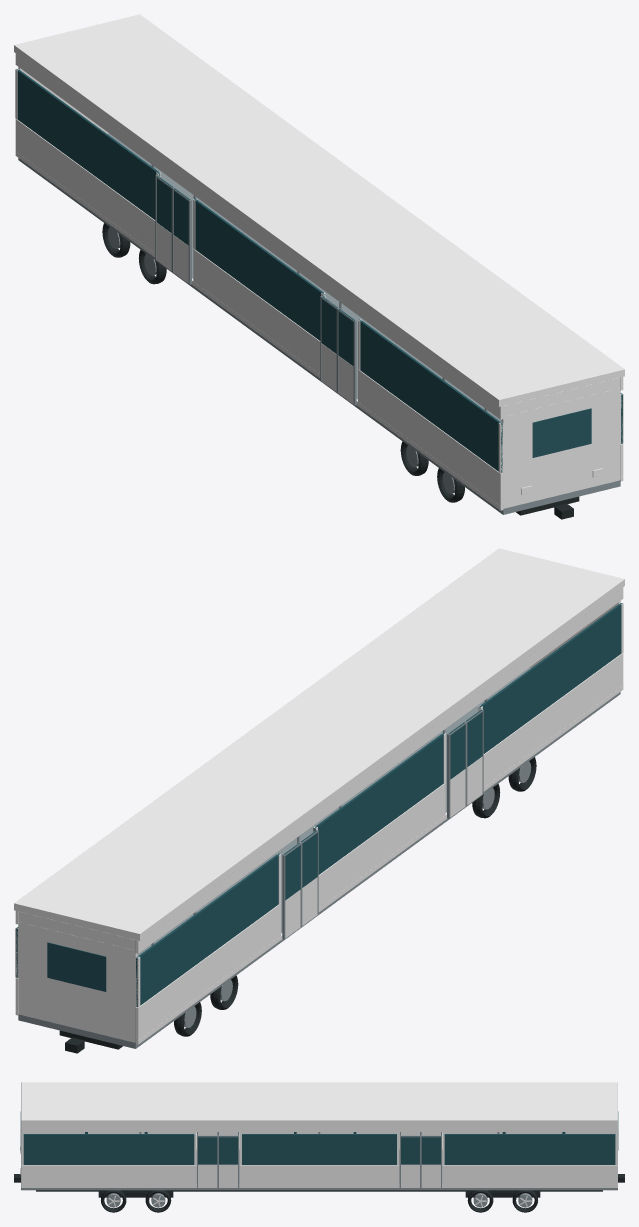
Rendered from mrt-train-carriage.glb.
3 renders of one model, top to bottom at view 1: azimuth 30°, elevation 25°; view 2: azimuth 150°, elevation 25°; view 3: azimuth 270°, elevation 25°, orthographic. The views are drawn at different scales.
Visible parts, largest first — view 1: Roof, End_Wall, Window_Band, Window_Band.002, Window_Band.001, Upper_Side_Rail, Lower_Wall, Lower_Wall.002, Lower_Wall.001, Carriage_Floor, End_Window, Lower_Side_Rail (+5 smaller); view 2: Roof, End_Wall.001, Window_Band.002, Window_Band, Window_Band.001, Upper_Side_Rail, Lower_Wall.002, Lower_Wall, Lower_Wall.001, Carriage_Floor, End_Window.001, Lower_Side_Rail (+5 smaller); view 3: Roof, Window_Band.005, Window_Band.003, Window_Band.004, Upper_Side_Rail.001, Lower_Wall.003, Lower_Wall.005, Lower_Wall.004, Carriage_Floor, Lower_Side_Rail.001, Centre_Underframe, Door_Pane_RightFront (+16 smaller).
Part boxes in pixels (x1=…): Roof: x1=14, y1=14, x2=624, y2=406; End_Wall: x1=501, y1=388, x2=620, y2=508; Window_Band: x1=359, y1=319, x2=502, y2=473; Window_Band.002: x1=16, y1=69, x2=160, y2=219; Window_Band.001: x1=194, y1=198, x2=325, y2=340; Upper_Side_Rail: x1=15, y1=53, x2=503, y2=419; Lower_Wall: x1=358, y1=369, x2=503, y2=506; Lower_Wall.002: x1=15, y1=119, x2=155, y2=253; Lower_Wall.001: x1=193, y1=249, x2=320, y2=373; Carriage_Floor: x1=18, y1=133, x2=620, y2=514; End_Window: x1=532, y1=408, x2=591, y2=457; Lower_Side_Rail: x1=15, y1=152, x2=503, y2=510; Roof: x1=14, y1=548, x2=624, y2=940; End_Wall.001: x1=18, y1=922, x2=137, y2=1042; Window_Band.002: x1=136, y1=853, x2=279, y2=1007; Window_Band: x1=479, y1=603, x2=622, y2=753; Window_Band.001: x1=313, y1=732, x2=444, y2=874; Upper_Side_Rail: x1=135, y1=587, x2=623, y2=953; Lower_Wall.002: x1=135, y1=903, x2=280, y2=1040; Lower_Wall: x1=483, y1=653, x2=623, y2=787; Lower_Wall.001: x1=318, y1=783, x2=445, y2=907; Carriage_Floor: x1=18, y1=667, x2=620, y2=1048; End_Window.001: x1=47, y1=942, x2=106, y2=991; Lower_Side_Rail: x1=135, y1=686, x2=623, y2=1044; Roof: x1=21, y1=1082, x2=617, y2=1124; Window_Band.005: x1=442, y1=1134, x2=617, y2=1164; Window_Band.003: x1=22, y1=1134, x2=195, y2=1164; Window_Band.004: x1=240, y1=1134, x2=399, y2=1164; Upper_Side_Rail.001: x1=21, y1=1124, x2=617, y2=1131; Lower_Wall.003: x1=21, y1=1165, x2=196, y2=1185; Lower_Wall.005: x1=442, y1=1165, x2=617, y2=1185; Lower_Wall.004: x1=239, y1=1165, x2=399, y2=1185; Carriage_Floor: x1=21, y1=1151, x2=617, y2=1190; Lower_Side_Rail.001: x1=21, y1=1185, x2=617, y2=1187; Centre_Underframe: x1=36, y1=1190, x2=602, y2=1191; Door_Pane_RightFront: x1=198, y1=1136, x2=217, y2=1164.
Bounding box in the file's own units: 3.07 × 3.7 × 20.48.
